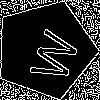W: (20, 24, 81, 85)
